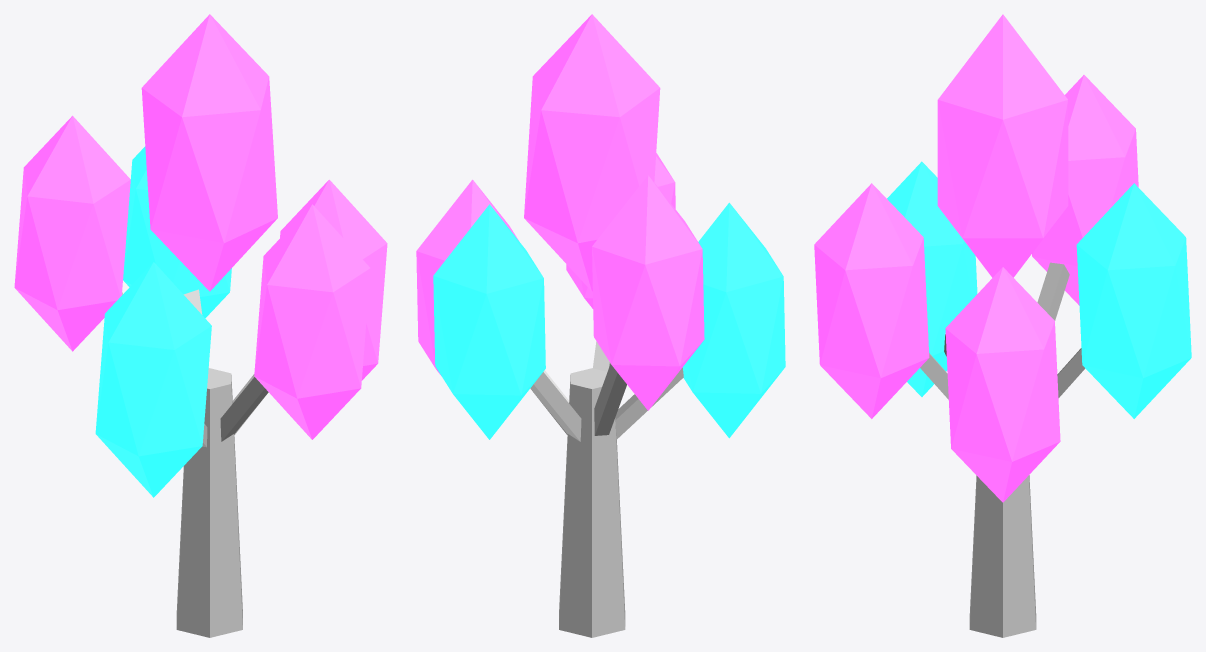
3 renders of one model, left to right at view 1: azimuth 30°, elevation 25°; view 2: azimuth 150°, elevation 25°; view 3: azimuth 270°, elevation 25°, orthographic.
Parts seen in each view (by area): view 1: Neon_HoloTree_Simple; view 2: Neon_HoloTree_Simple; view 3: Neon_HoloTree_Simple.
Boxes of the visible parts, x1,y1,x2,y2 form: Neon_HoloTree_Simple: (14,14,387,637); Neon_HoloTree_Simple: (416,14,785,637); Neon_HoloTree_Simple: (814,14,1191,637).
Size of the model in its own units: 1.9 by 3.5 by 1.97.
